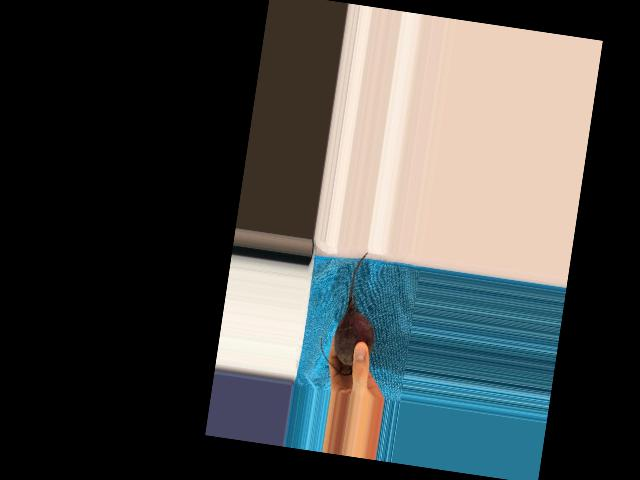beet: (317, 247, 387, 378)
